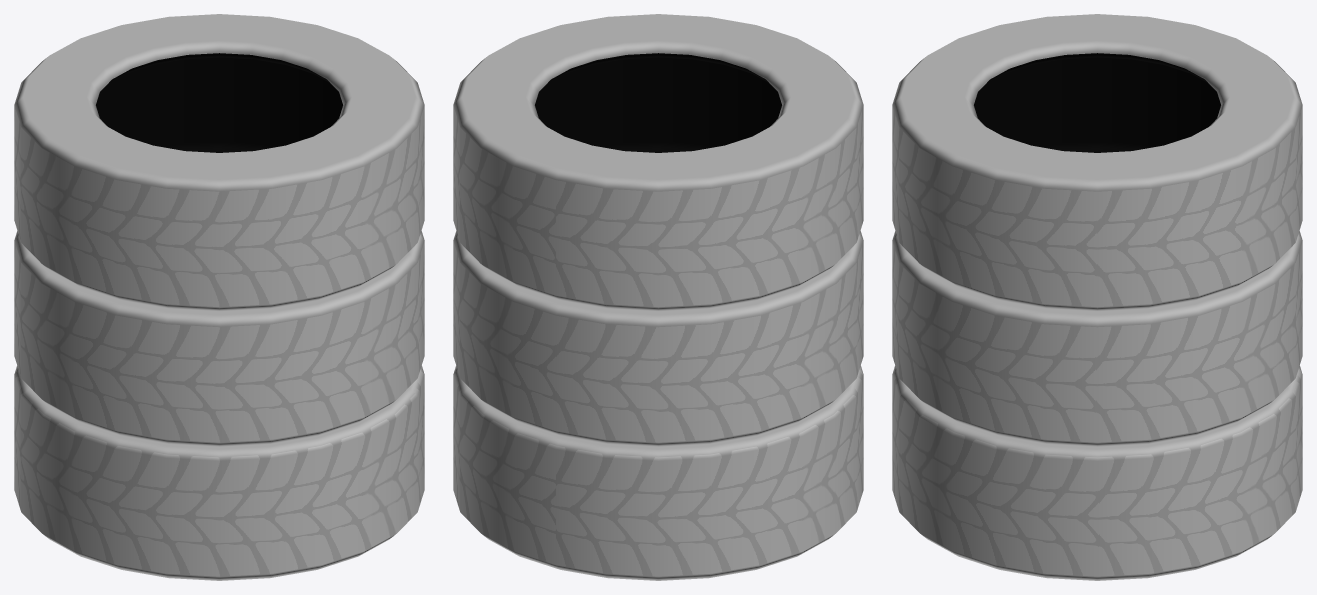
File: Tire-barrier_White.fbx
3 views of the same model, side by side, from view 1: azimuth 30°, elevation 25°; view 2: azimuth 150°, elevation 25°; view 3: azimuth 270°, elevation 25° (orthographic).
Visible parts, largest first — view 1: Tire-barrier_White; view 2: Tire-barrier_White; view 3: Tire-barrier_White.
Part boxes in pixels (box(x1,y1,x2,y2)): Tire-barrier_White: box(14, 14, 424, 580); Tire-barrier_White: box(453, 14, 863, 580); Tire-barrier_White: box(892, 14, 1302, 580).
Size of the model in its own units: 91.6 by 98.8 by 91.6.
